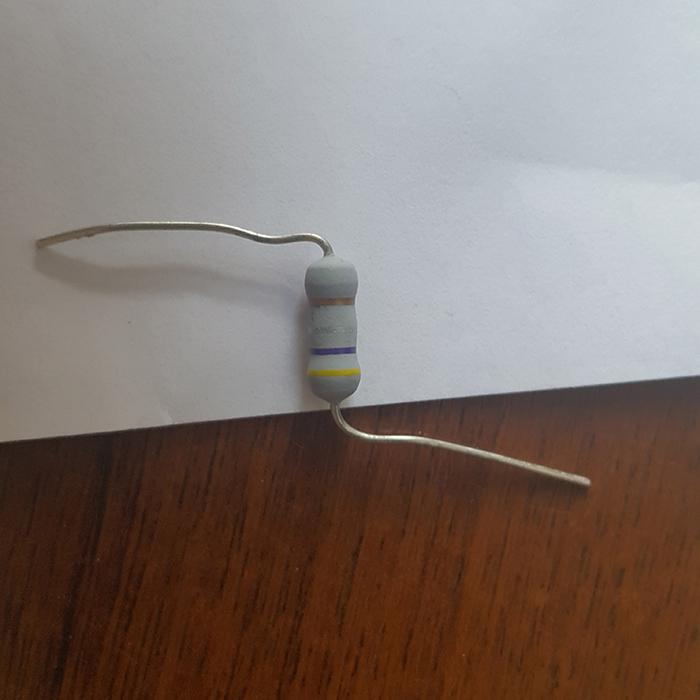resistor: (302, 251, 362, 404)
